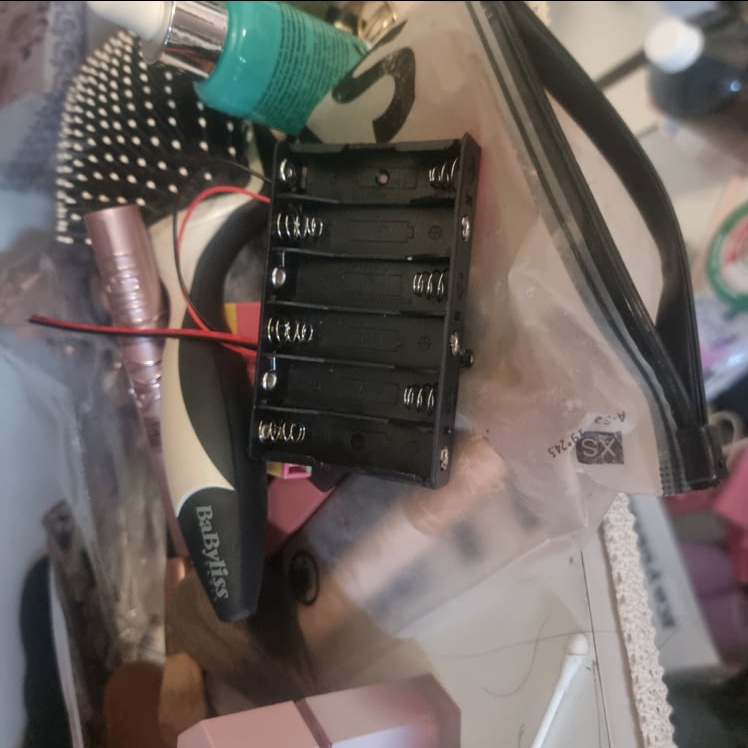BATTERY BOX: (249, 129, 484, 488)
